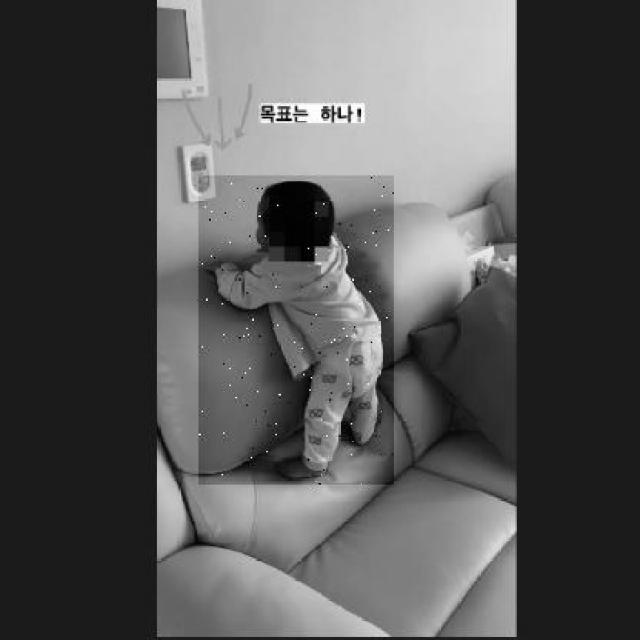child: (198, 176, 394, 485)
